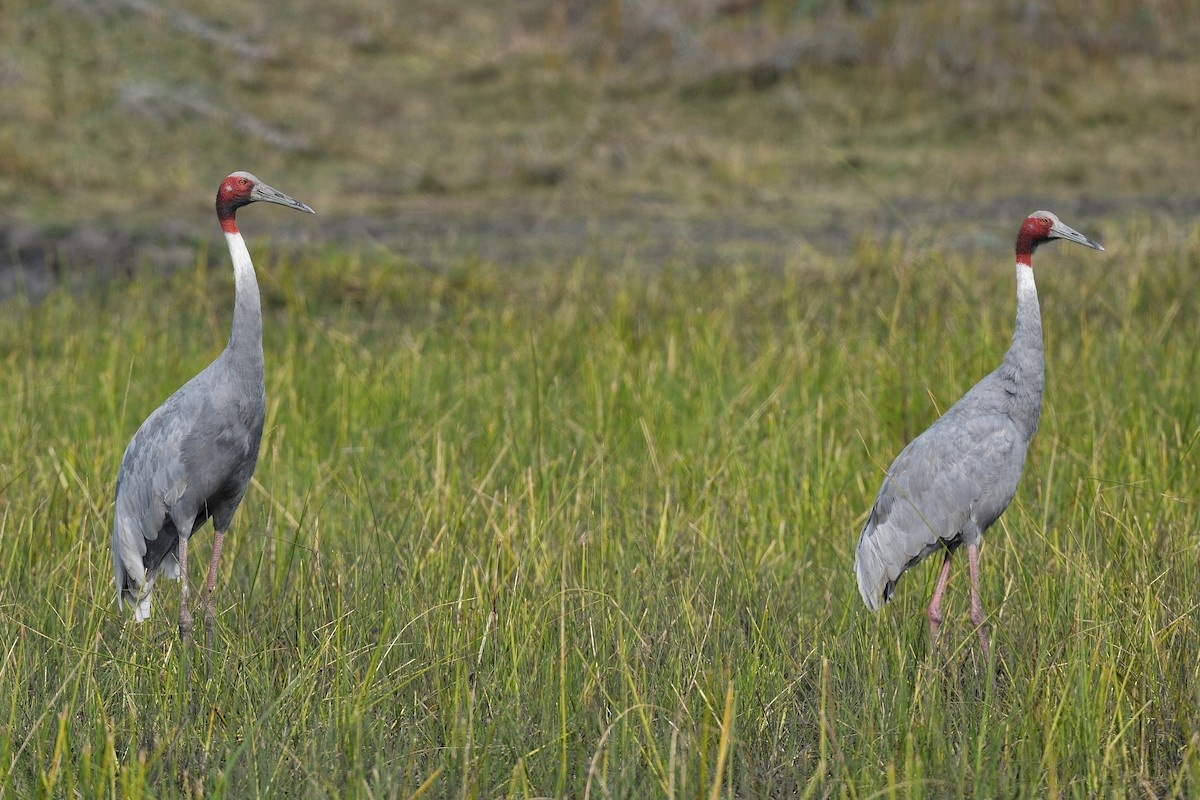crane: (858, 207, 1109, 624), (106, 157, 322, 622)
